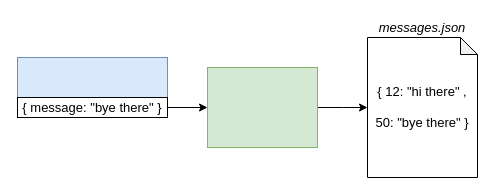
Some shapes in this 495 by 195 pixel diagram are drawn without their labels. Here are the shapes that lost their labels. From the top down, the box of each, then its label:
(16, 56, 168, 98): POST Request
(206, 66, 318, 148): Messages Controller
